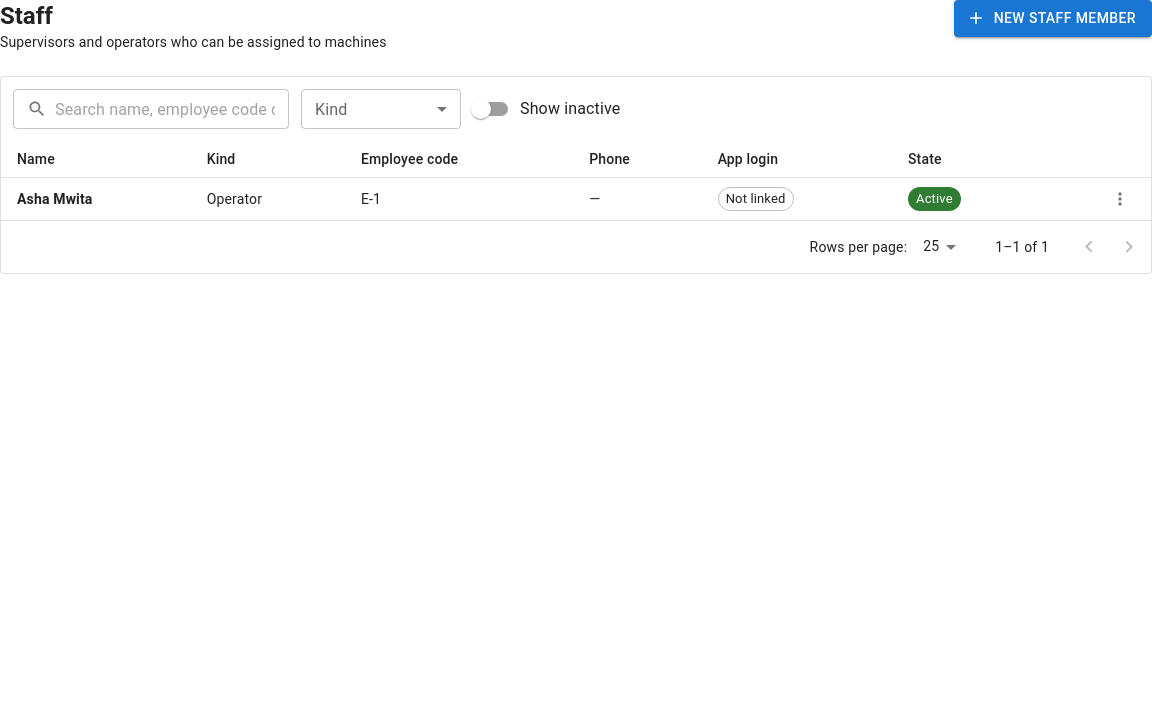
Test case: staff list › shows a business refusal with its hint
Step 1. Click the button named "Actions for Asha Mwita" → [1120, 199], box x1=1105 y1=184 x2=1135 y2=214
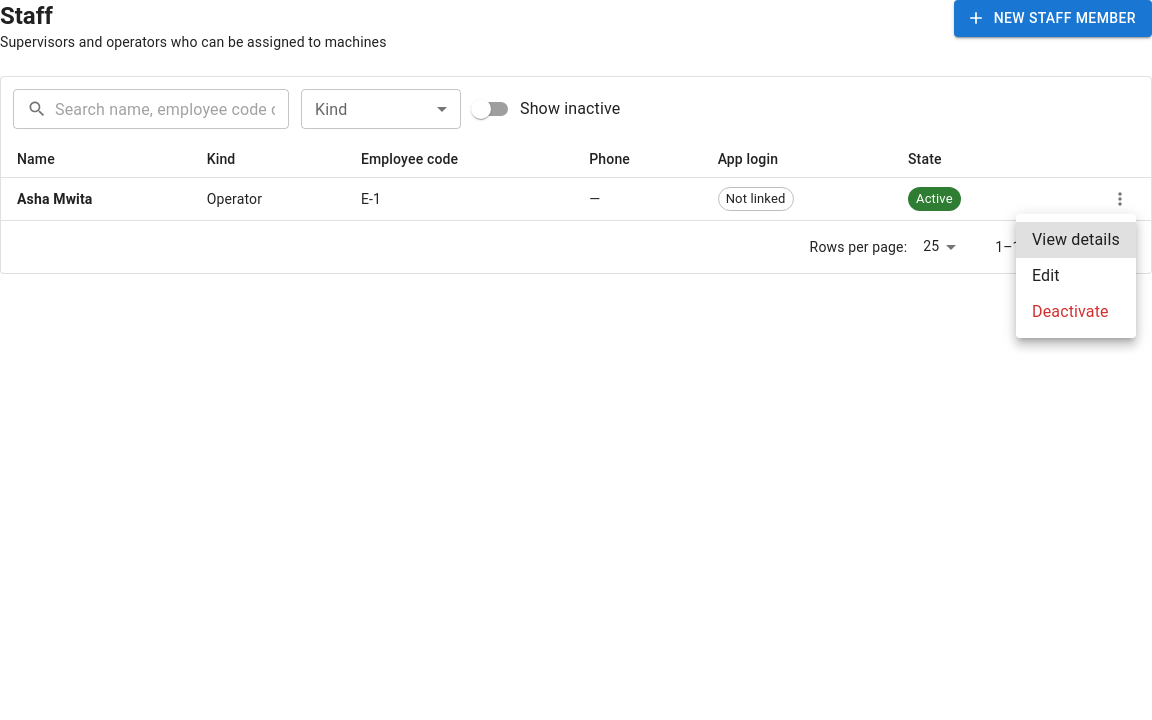
Step 2. Click the menu item "Deactivate" → [1070, 312], box x1=1032 y1=302 x2=1109 y2=321
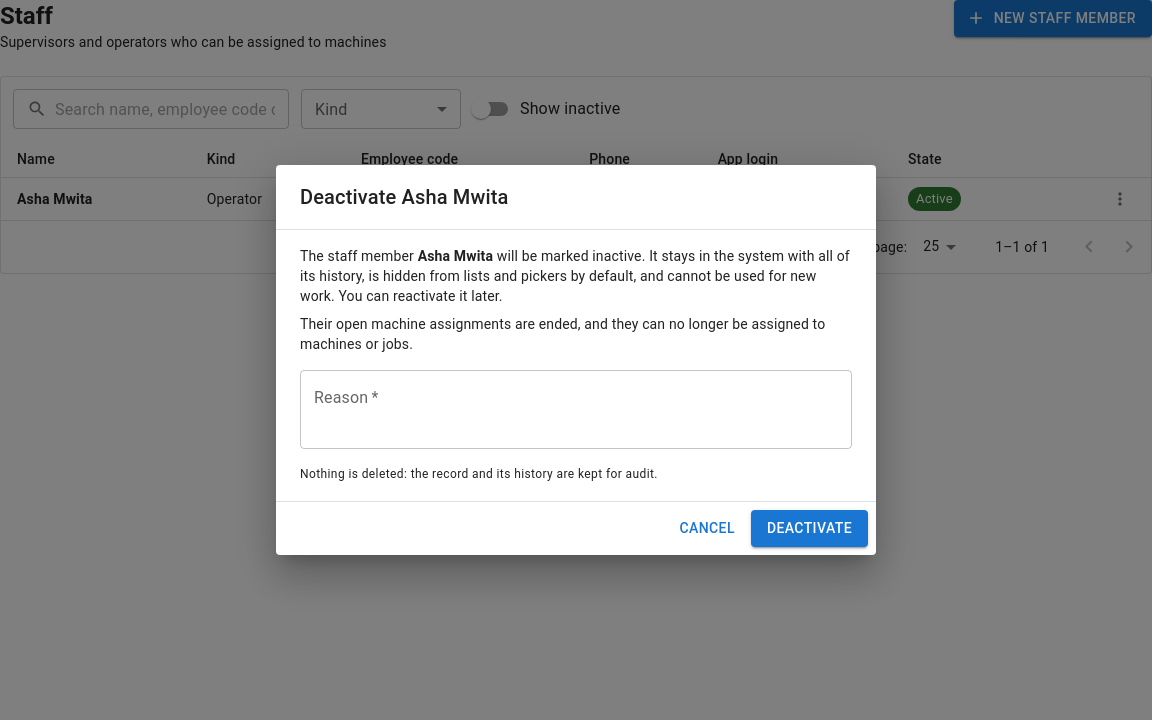
Step 3. Type "Left" into the text box labelled "Reason *" → [576, 410], box x1=314 y1=387 x2=838 y2=433
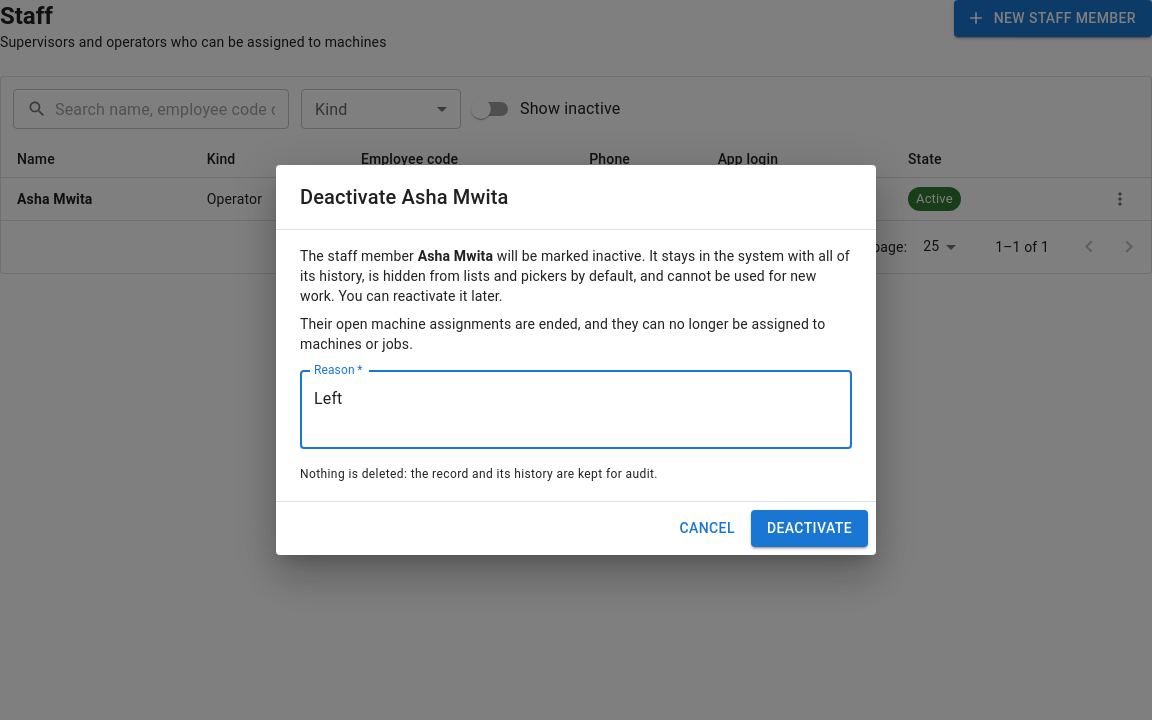
Step 4. Click the button "Deactivate" → [809, 528], box x1=751 y1=510 x2=868 y2=547
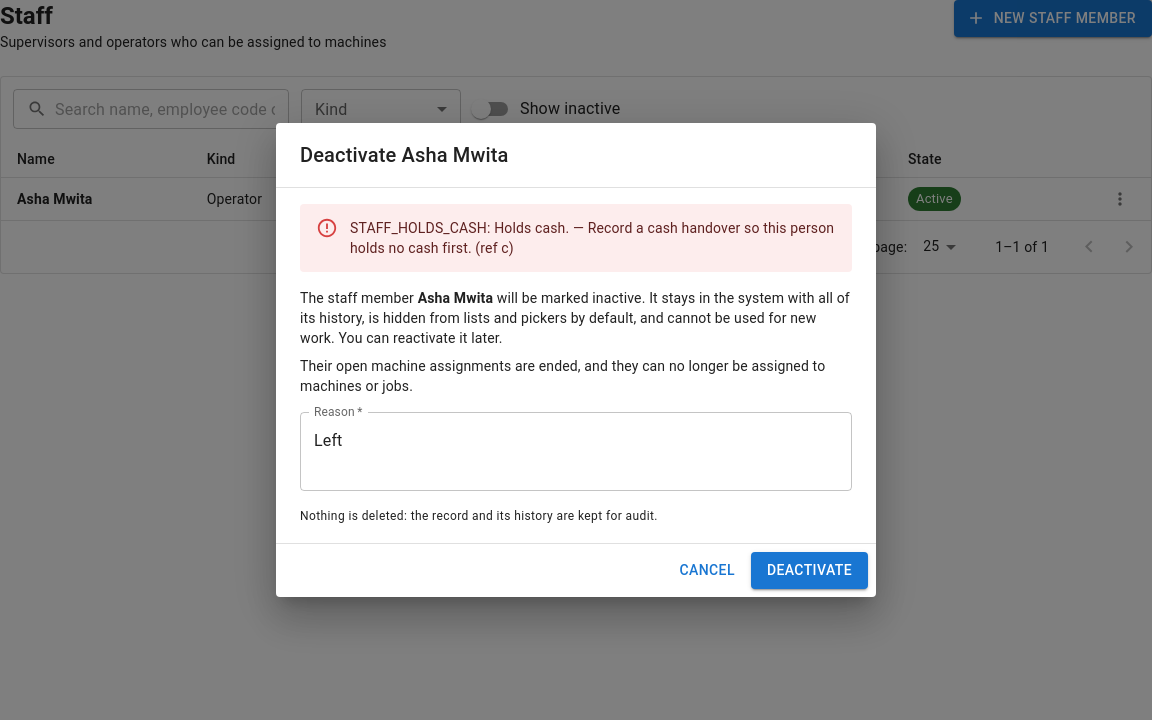
Expected: the text "STAFF_HOLDS_CASH: Holds cash. — Record a cash handover" is shown, x1=350 y1=220 x2=834 y2=256
